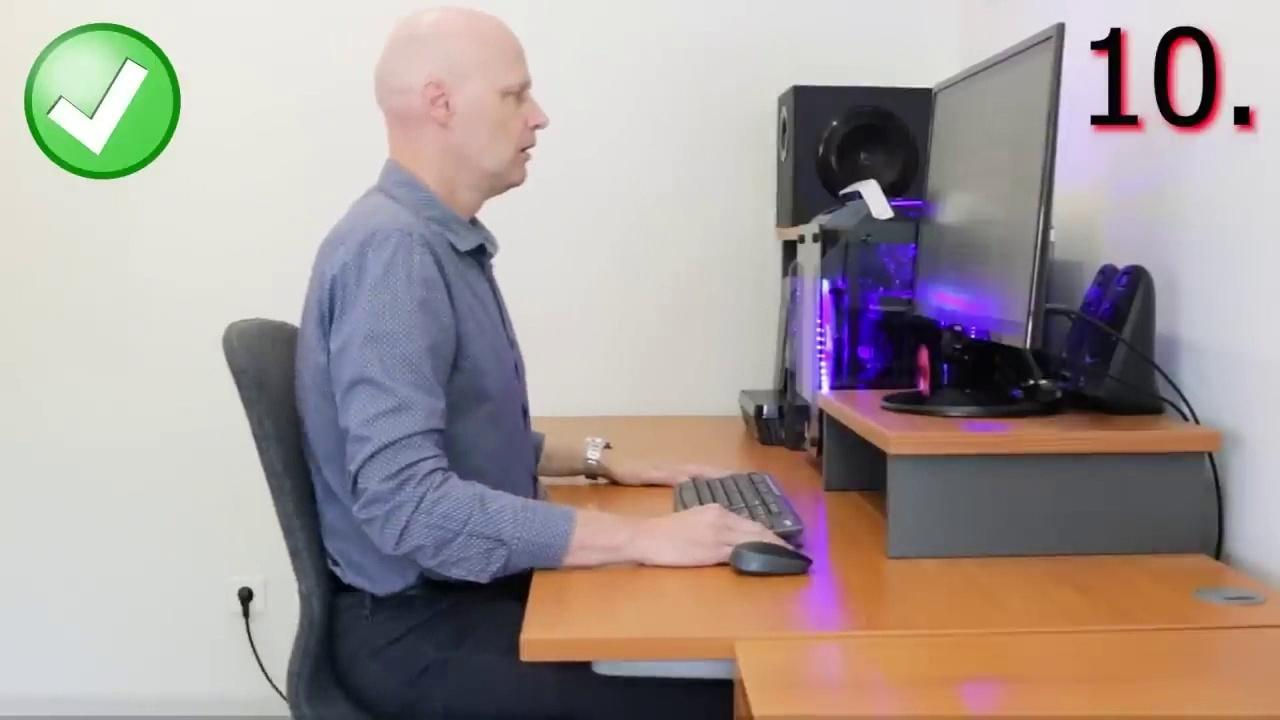GoodPosture: (296, 8, 772, 719)
